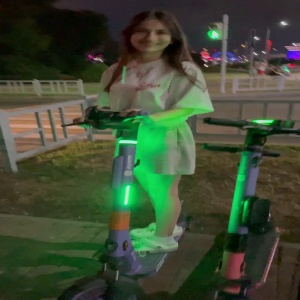human on a scooter: (54, 9, 216, 300)
